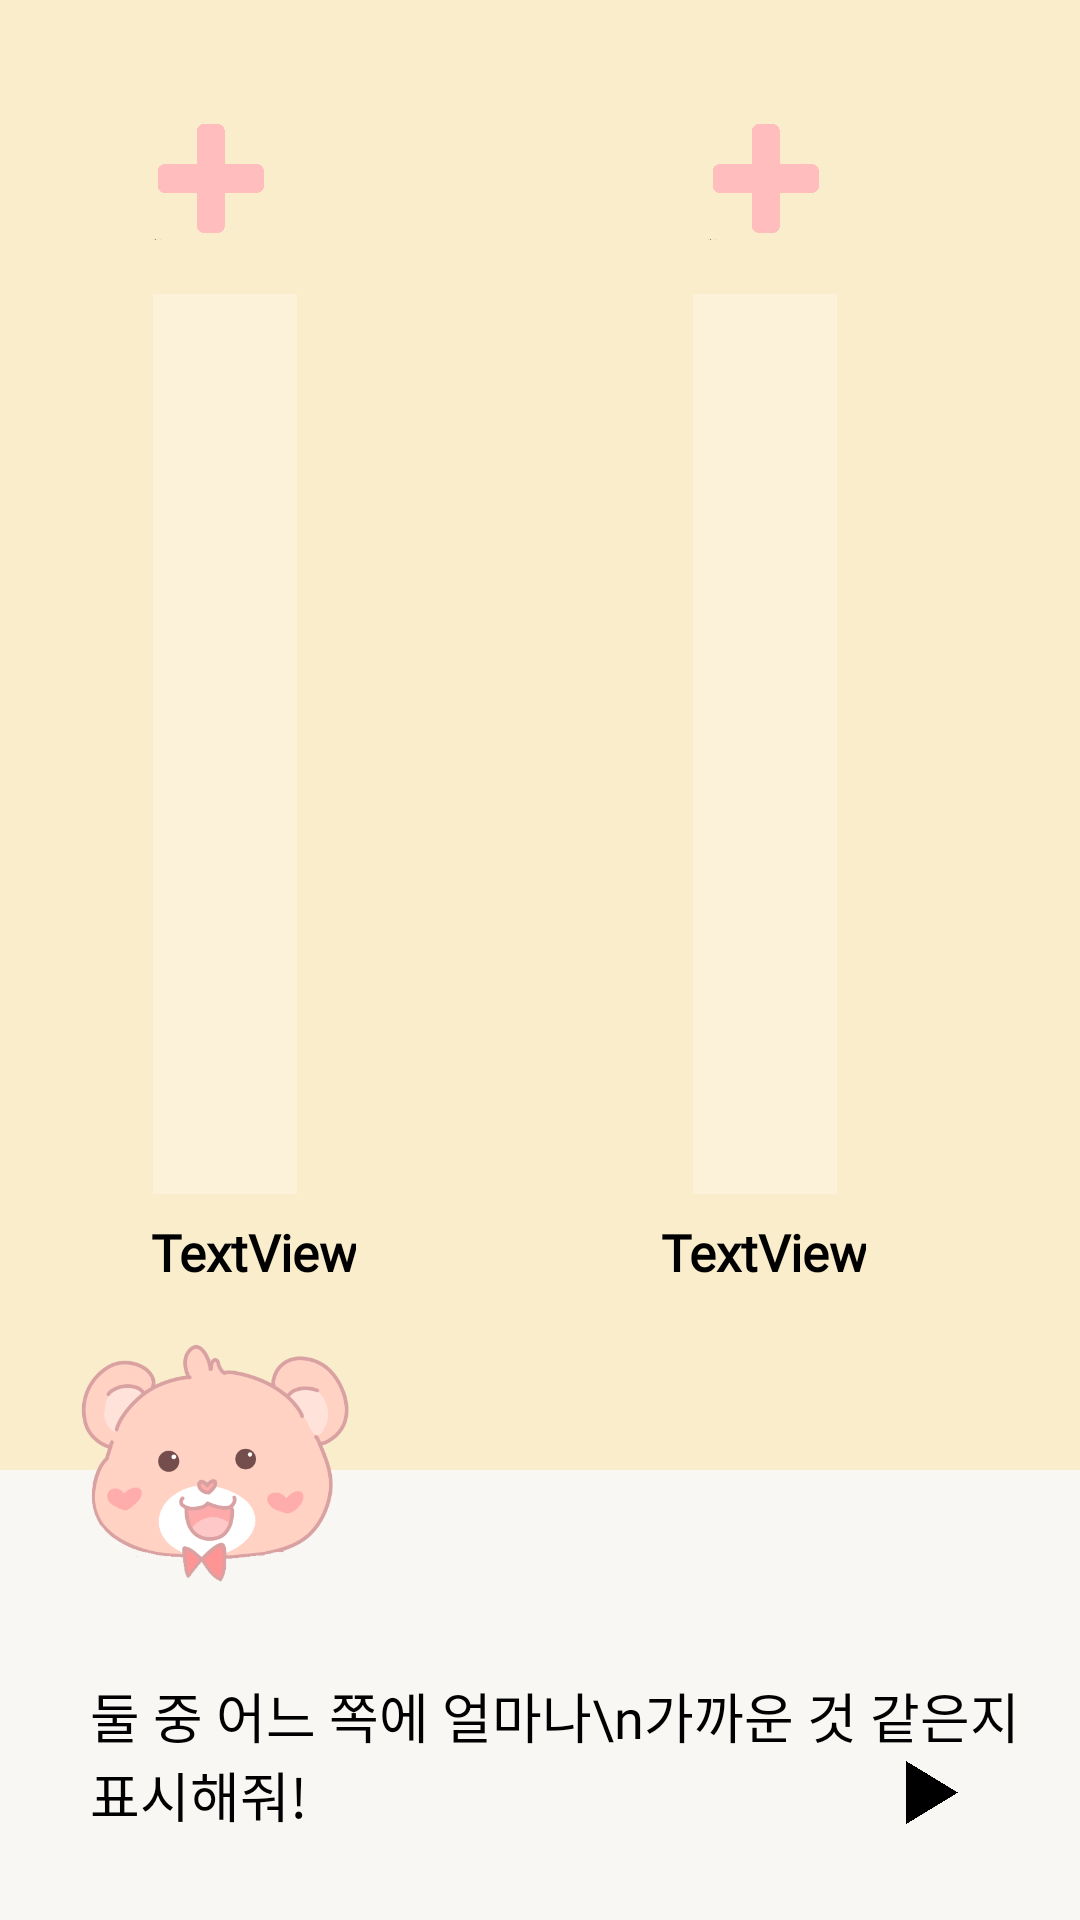

Icons on this 1080*1920 Android screen, each with the point to tap as (x,y):
gom face: (217,1455)
plus: (209,182), (764,182)
